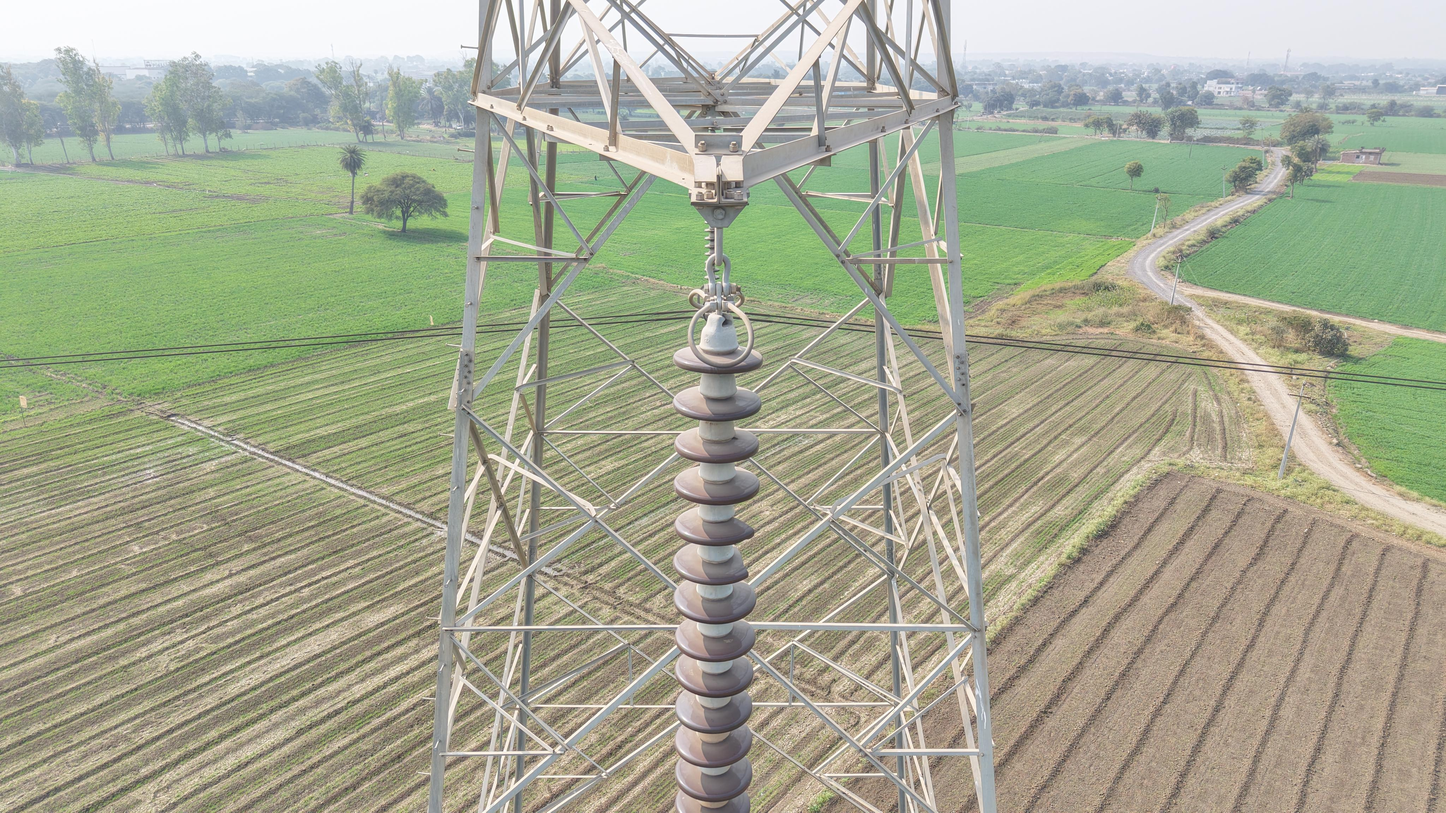broken_insulator: (662, 508, 765, 549), (665, 552, 763, 590)
